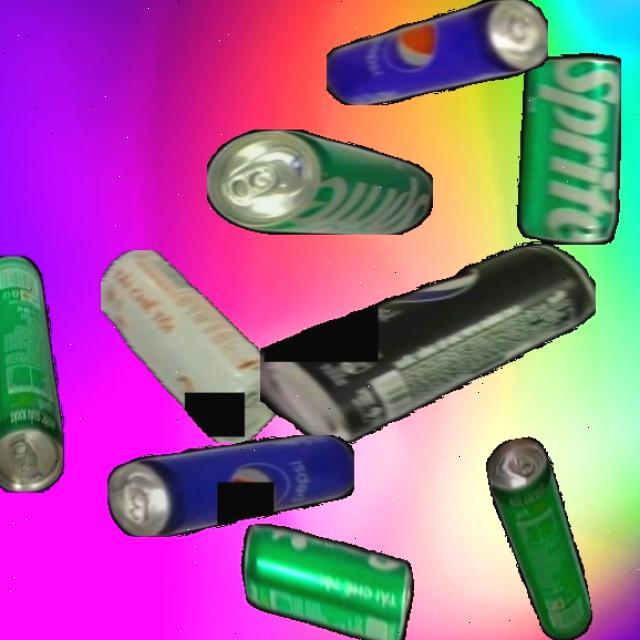debris: (259, 241, 596, 444), (100, 249, 284, 443), (235, 499, 424, 640), (483, 52, 621, 245), (108, 434, 354, 537), (207, 128, 433, 235), (482, 432, 596, 640), (326, 0, 548, 105), (0, 255, 64, 492)
